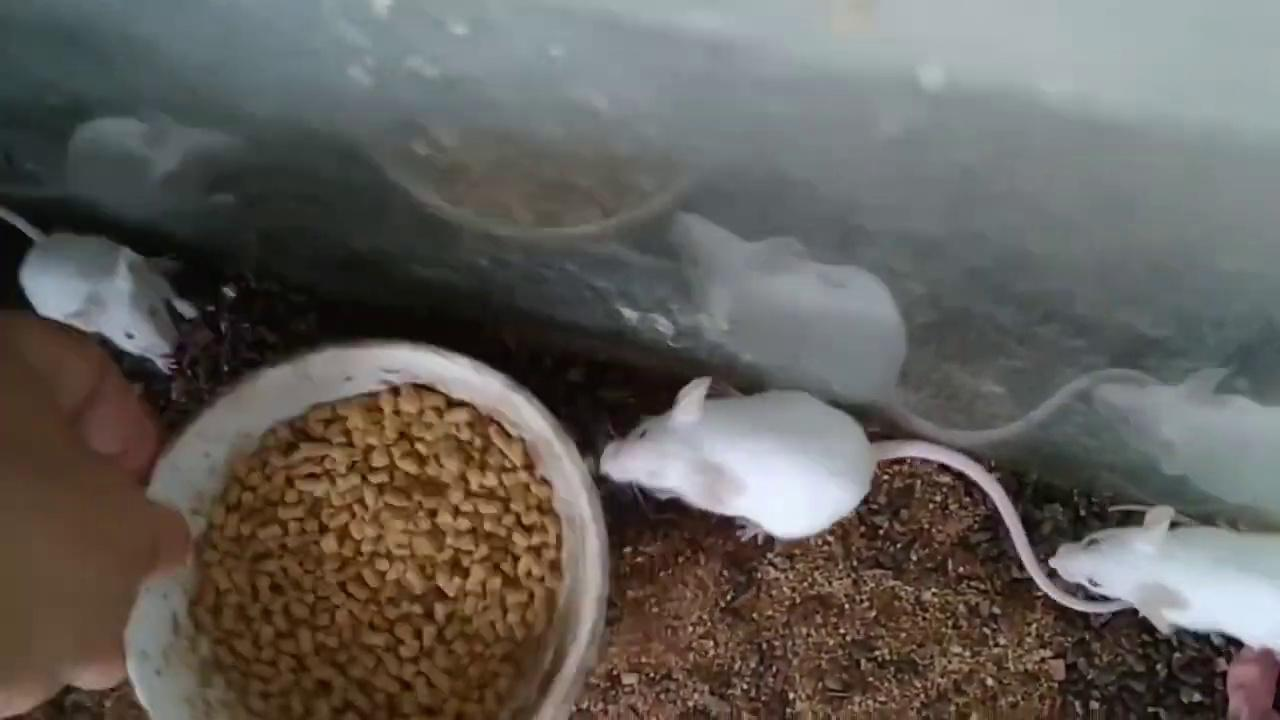rat: (600, 376, 1129, 612), (1050, 507, 1280, 652), (0, 208, 202, 373)
